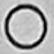no answer: (4, 4, 49, 47)
